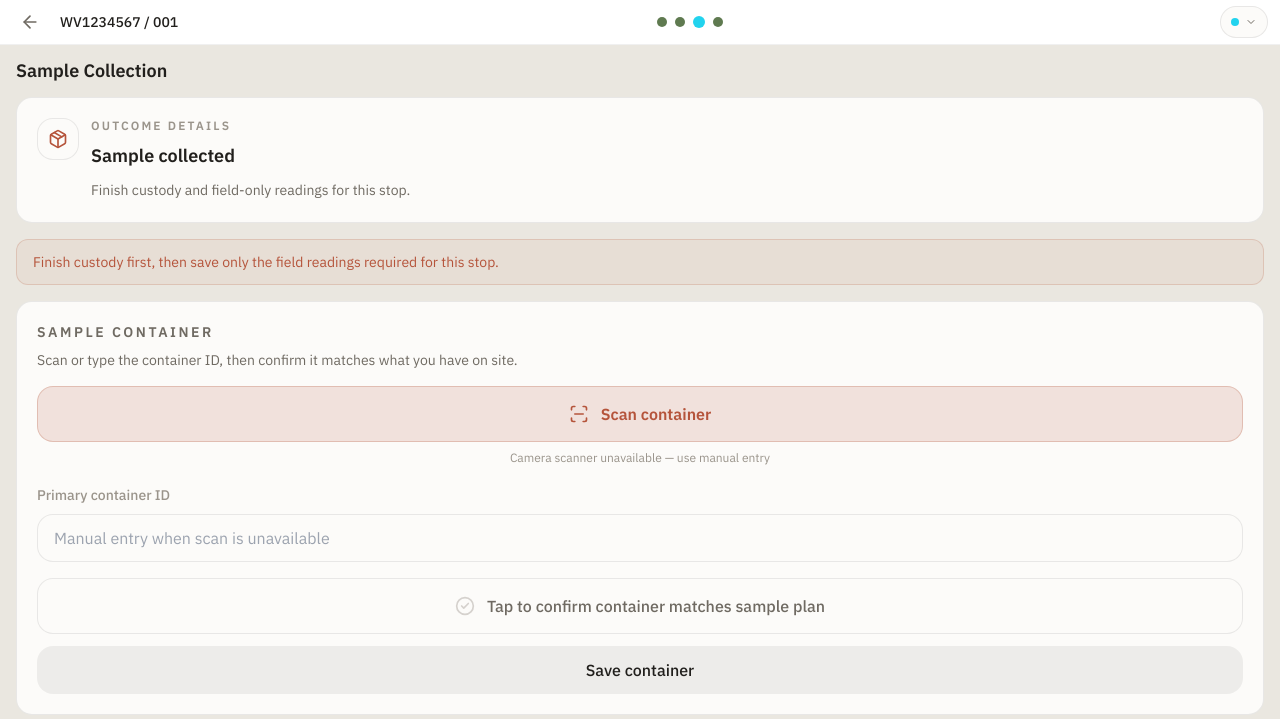
Test: FieldVisitPage wizard › renders the site assessment decision tree with reachability and condition questions
Check: the navigation bar named "Field visit wizard progress" is shown, box 657,16 -> 741,28
Click the button named "Site Assessment". click: (680, 22)
box: 675,17 -> 685,27
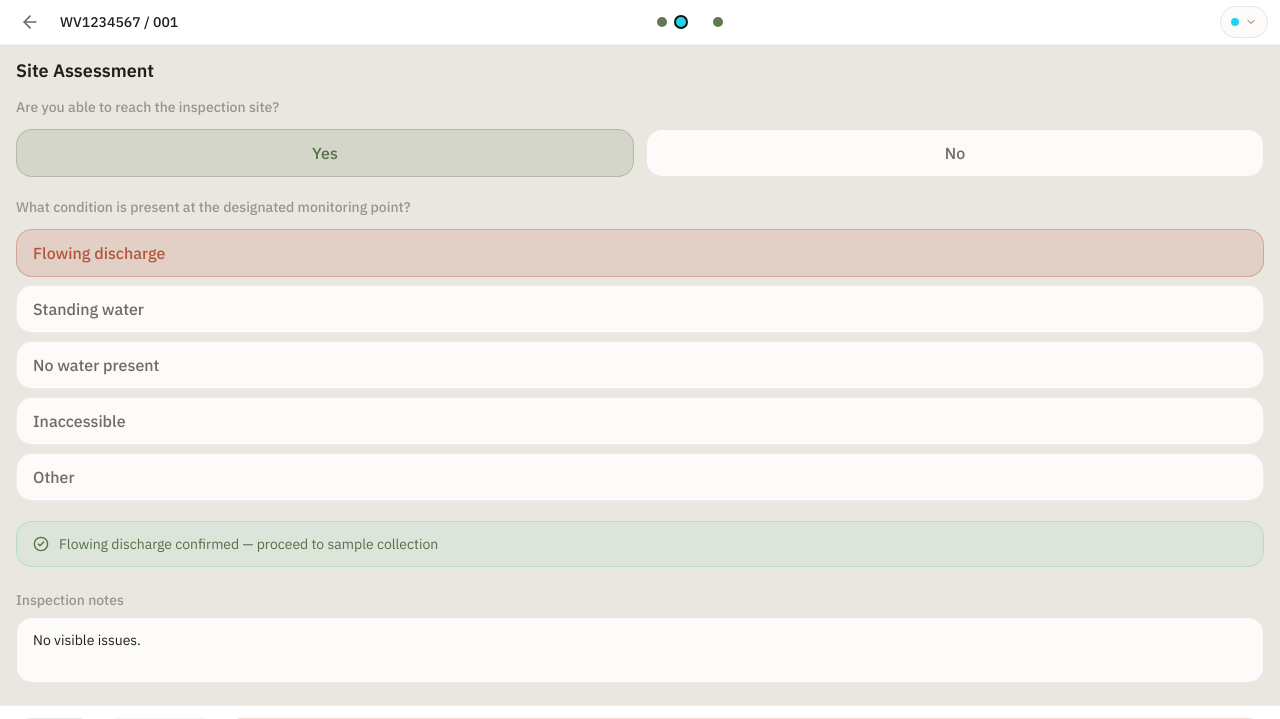
Check: the heading "Site Assessment" is shown, box 16,59 -> 154,82
Check: the text "Are you able to reach the inspection site?" is shown, box 16,97 -> 279,117
Check: the button "Yes" is shown, box 16,129 -> 634,177
